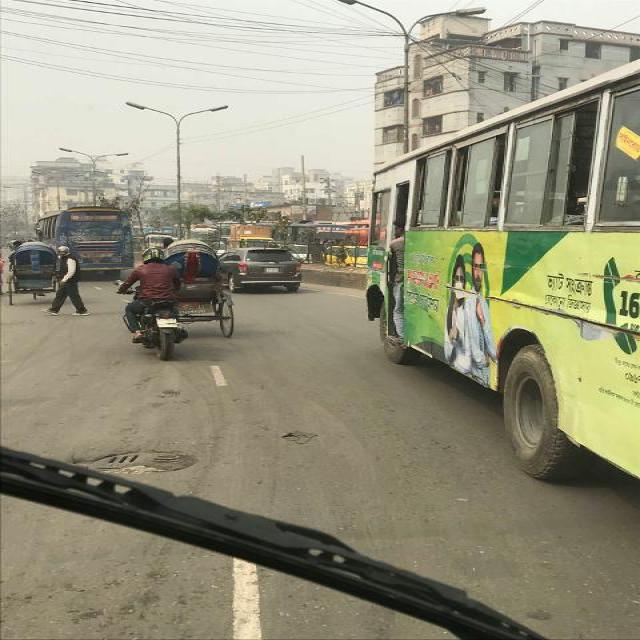10: (117, 296, 187, 358)
13: (156, 236, 236, 348), (4, 236, 57, 306)
5: (218, 244, 305, 296), (322, 242, 366, 266)
Truck: (361, 57, 639, 491), (29, 204, 144, 282), (286, 218, 350, 250), (171, 220, 224, 238)
